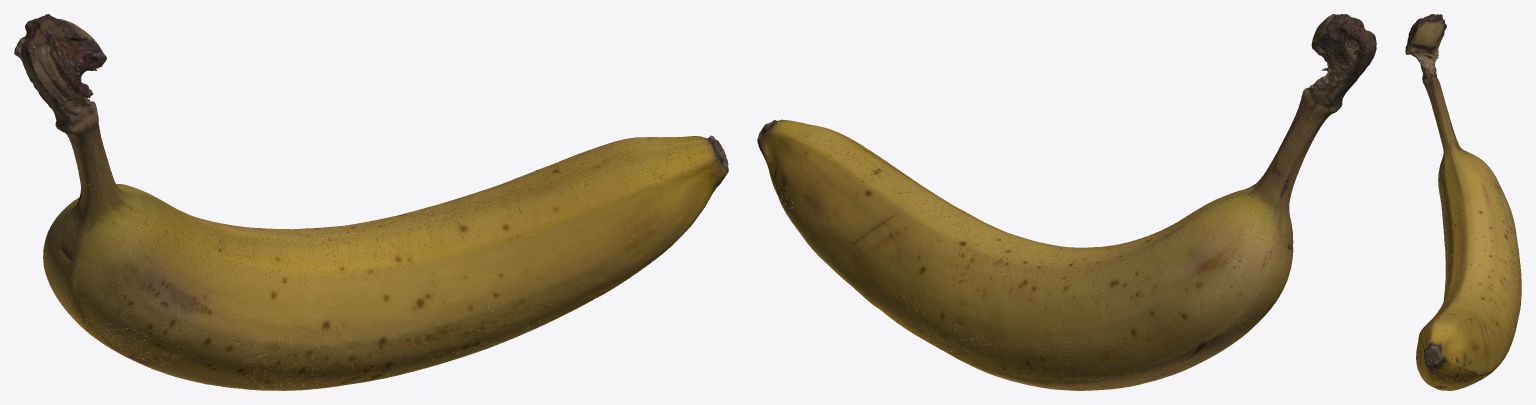
Rendered from banana.glb.
The picture shows the model from 3 angles, left to right: view 1: azimuth 30°, elevation 25°; view 2: azimuth 150°, elevation 25°; view 3: azimuth 270°, elevation 25°; orthographic projection. The views are drawn at different scales.
Parts seen in each view (by area): view 1: Object_5, Object_3, Object_4, Object_6, Object_7, Object_8, Object_11, Object_10, Object_2, Object_9; view 2: Object_2, Object_9, Object_10, Object_8, Object_11, Object_3, Object_7, Object_4, Object_6, Object_5; view 3: Object_9, Object_10, Object_2, Object_11, Object_3, Object_8, Object_7, Object_4, Object_6, Object_5.
Boxes of the visible parts, x1,y1,x2,y2 form: Object_5: (231,143,690,390); Object_3: (21,40,665,388); Object_4: (39,67,711,390); Object_6: (51,139,728,390); Object_7: (44,136,727,369); Object_8: (14,14,725,355); Object_11: (21,40,722,347); Object_10: (14,14,512,335); Object_2: (24,15,723,332); Object_9: (57,19,720,297); Object_2: (758,16,1369,381); Object_9: (757,14,1344,350); Object_10: (886,14,1363,382); Object_8: (765,23,1376,388); Object_11: (762,21,1376,388); Object_3: (814,23,1376,390); Object_7: (767,119,1292,390); Object_4: (758,35,1368,390); Object_6: (760,120,1293,390); Object_5: (810,125,1148,390); Object_9: (1410,20,1520,373); Object_10: (1406,14,1521,354); Object_2: (1405,15,1521,373); Object_11: (1405,20,1521,380); Object_3: (1410,28,1521,389); Object_8: (1406,14,1520,385); Object_7: (1419,149,1514,390); Object_4: (1405,33,1513,390); Object_6: (1416,168,1512,390); Object_5: (1416,265,1493,389).
Size of the model in its own units: 206 by 131 by 53.84.
Materials: 1 (1 with a texture image).
